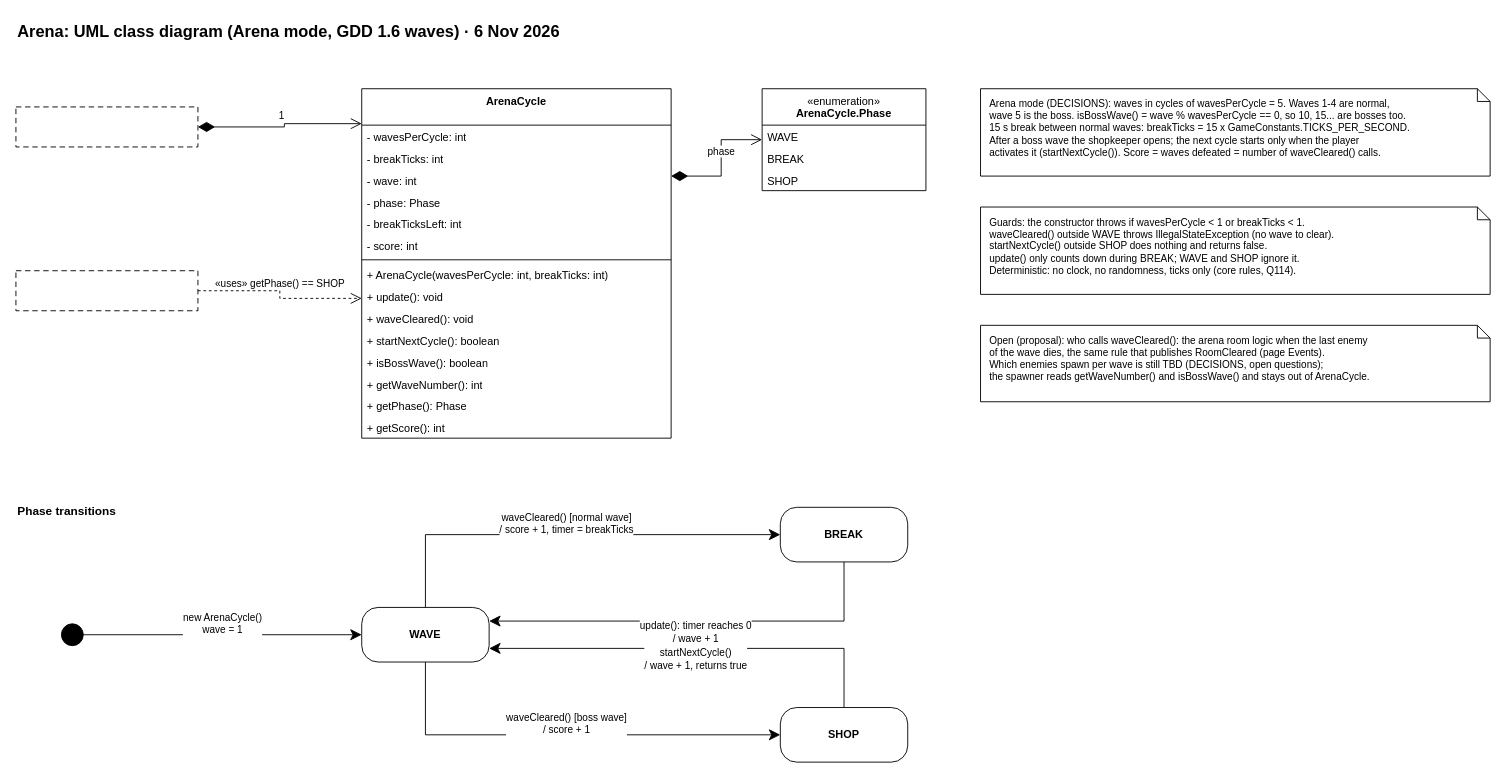
This 1506x778 diagram has some shape labels left out. Here are the shapes that lost their labels. From the top down, the centre of each, then its label:
At (106,126): "World engine · Arena mode, one per run".
At (106,290): "Shopkeeper entity · page Entities".
